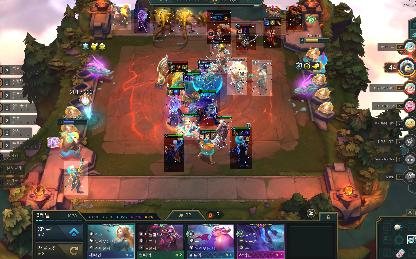1_bard: (111, 4, 131, 30)
1_graves: (64, 161, 88, 195)
1_idas: (176, 9, 200, 35), (153, 8, 175, 36)
1_jayce: (263, 4, 281, 28), (286, 6, 302, 30)
1_xayah: (263, 18, 281, 48)
1_yasuo: (166, 86, 184, 126), (134, 9, 150, 33)
2_graves: (230, 127, 252, 169)
2_idas: (168, 61, 188, 89)
2_jax: (198, 60, 218, 90)
2_jayce: (210, 40, 232, 74)
2_joy: (207, 10, 231, 44)
2_leesin: (164, 134, 184, 172)
2_nasus: (252, 60, 272, 96)
2_pantheon: (196, 90, 220, 126)
2_rakan: (214, 114, 232, 148)
2_seraphine: (178, 116, 200, 140)
2_twitch: (236, 24, 256, 50)
2_volibear: (227, 57, 247, 95)
2_zac: (182, 72, 200, 102)
2_zeri: (198, 130, 216, 166)
